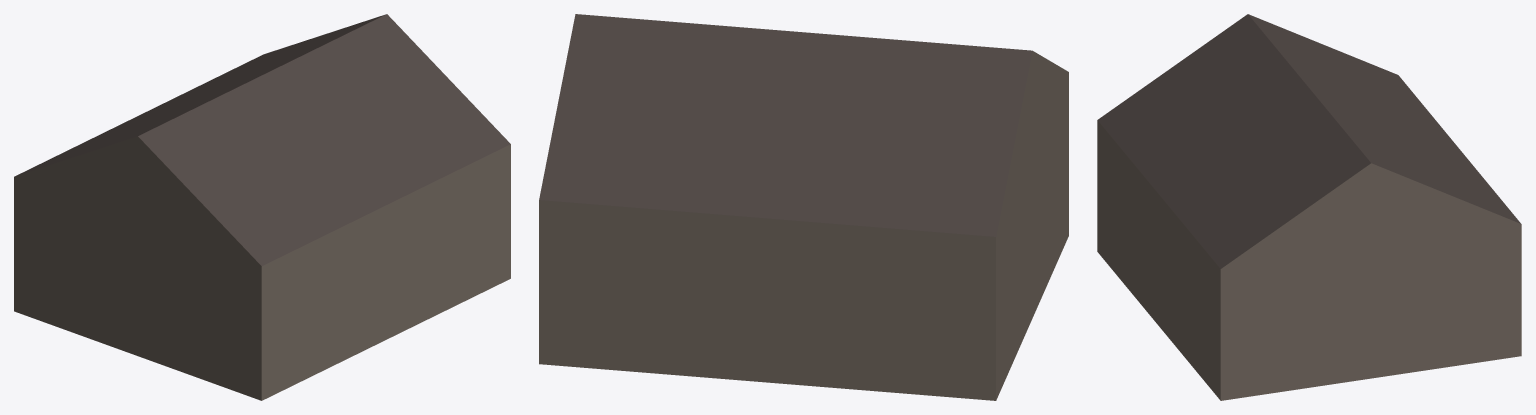
3 views of the same model, side by side, from view 1: azimuth 30°, elevation 25°; view 2: azimuth 150°, elevation 25°; view 3: azimuth 270°, elevation 25° (orthographic). The views are drawn at different scales.
Parts seen in each view (by area): view 1: HP-w859457503; view 2: HP-w859457503; view 3: HP-w859457503.
Boxes of the visible parts, x1,y1,x2,y2 form: HP-w859457503: (14,14,510,400); HP-w859457503: (539,14,1068,400); HP-w859457503: (1097,14,1521,400).
Size of the model in its own units: 18.94 by 9.8 by 17.5.
